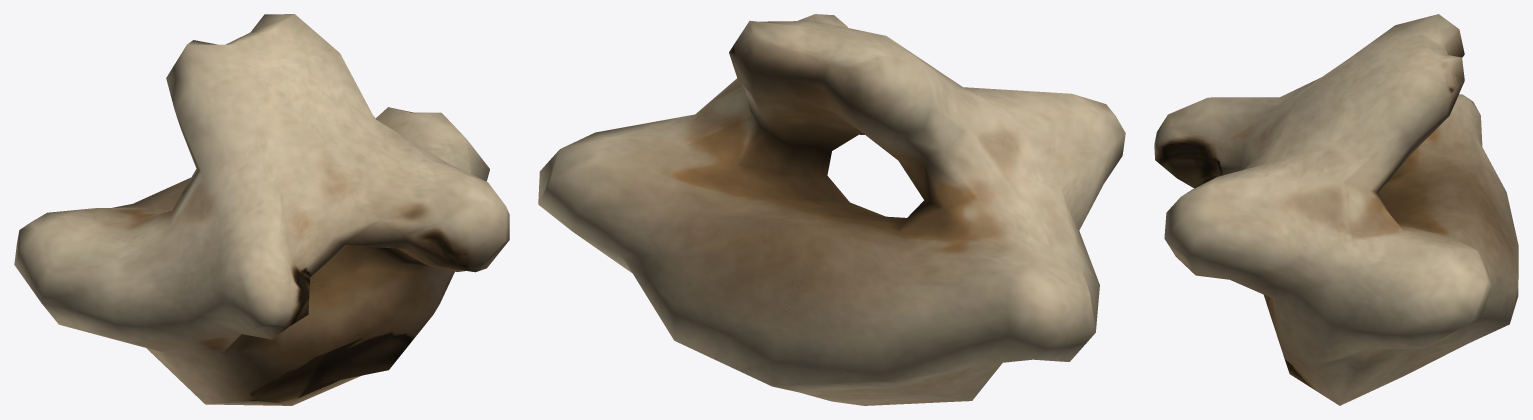
File: Caudal_Vertebrae1.glb
3 views of the same model, side by side, from view 1: azimuth 30°, elevation 25°; view 2: azimuth 150°, elevation 25°; view 3: azimuth 270°, elevation 25° (orthographic). The views are drawn at different scales.
Parts seen in each view (by area): view 1: Caudal_Vertebrae_20:Group28809; view 2: Caudal_Vertebrae_20:Group28809; view 3: Caudal_Vertebrae_20:Group28809.
Part boxes in pixels (x1,y1,x2,y2): Caudal_Vertebrae_20:Group28809: (14,14,509,405); Caudal_Vertebrae_20:Group28809: (538,14,1125,405); Caudal_Vertebrae_20:Group28809: (1154,14,1518,405).
Bounding box in the file's own units: 20.63 × 15.23 × 14.68.
Materials: 1 (1 with a texture image).
